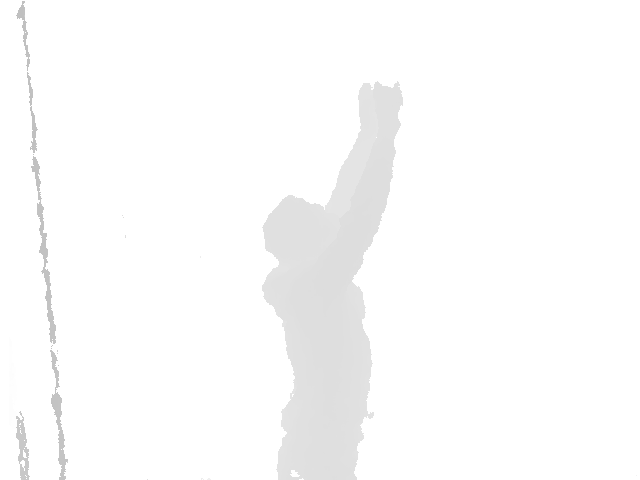hand: (370, 80, 404, 137), (357, 83, 390, 132)
head: (261, 195, 343, 264)
person: (261, 80, 405, 480)
